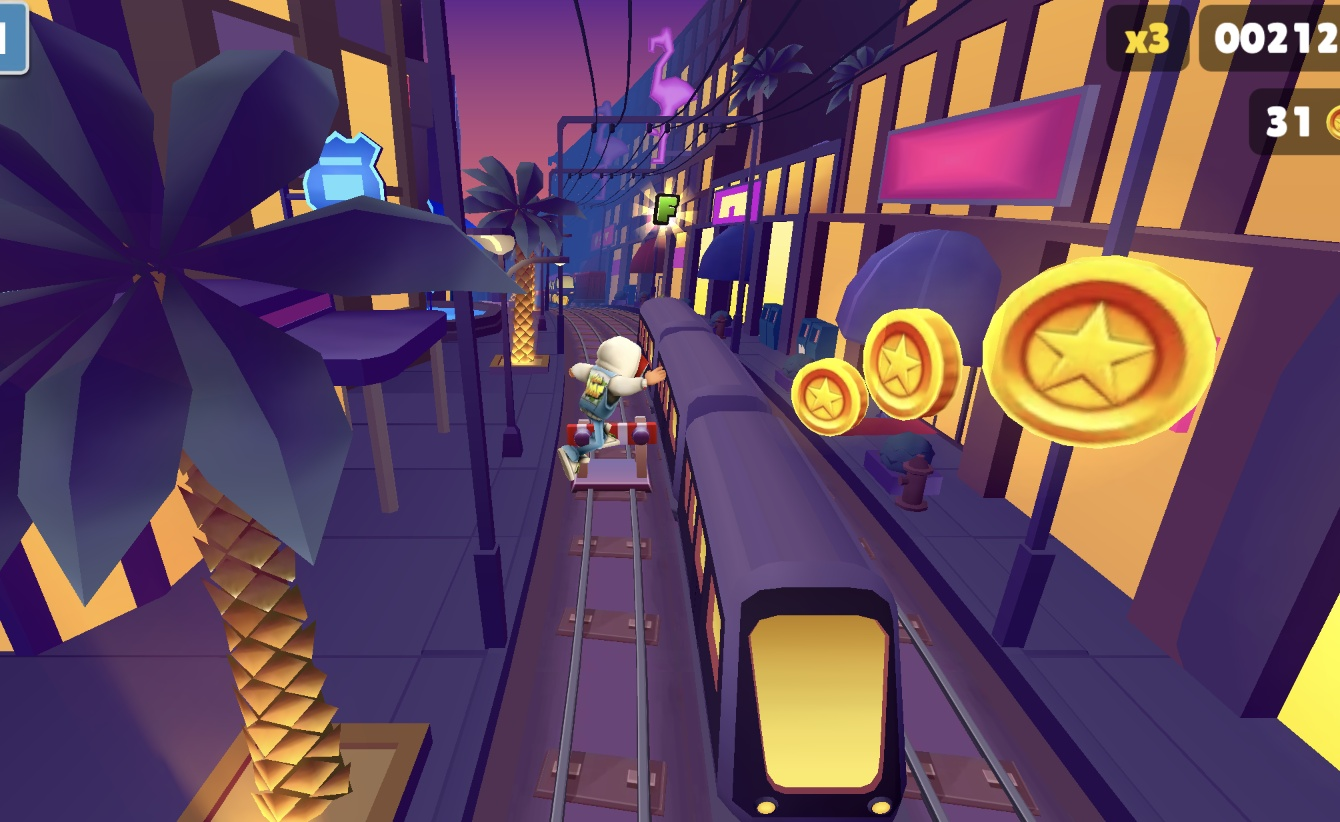ground_barrier: (557, 427, 655, 499)
train: (626, 307, 911, 822), (575, 272, 605, 309), (550, 274, 575, 302)
